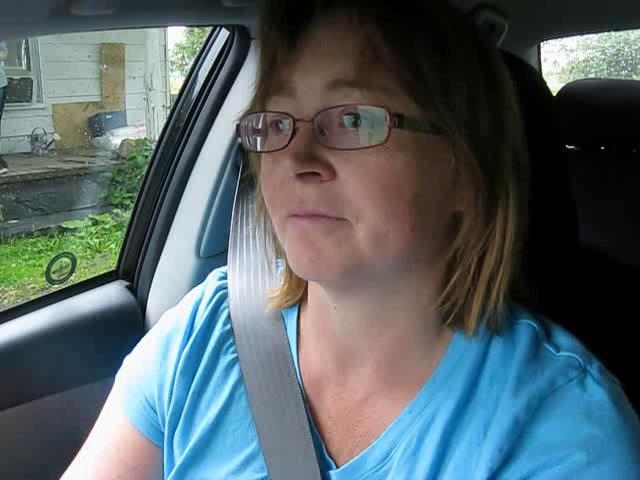no_yawn: (267, 196, 358, 246)
open_eyeL: (248, 106, 307, 149)
open_eyeR: (316, 99, 400, 155)
